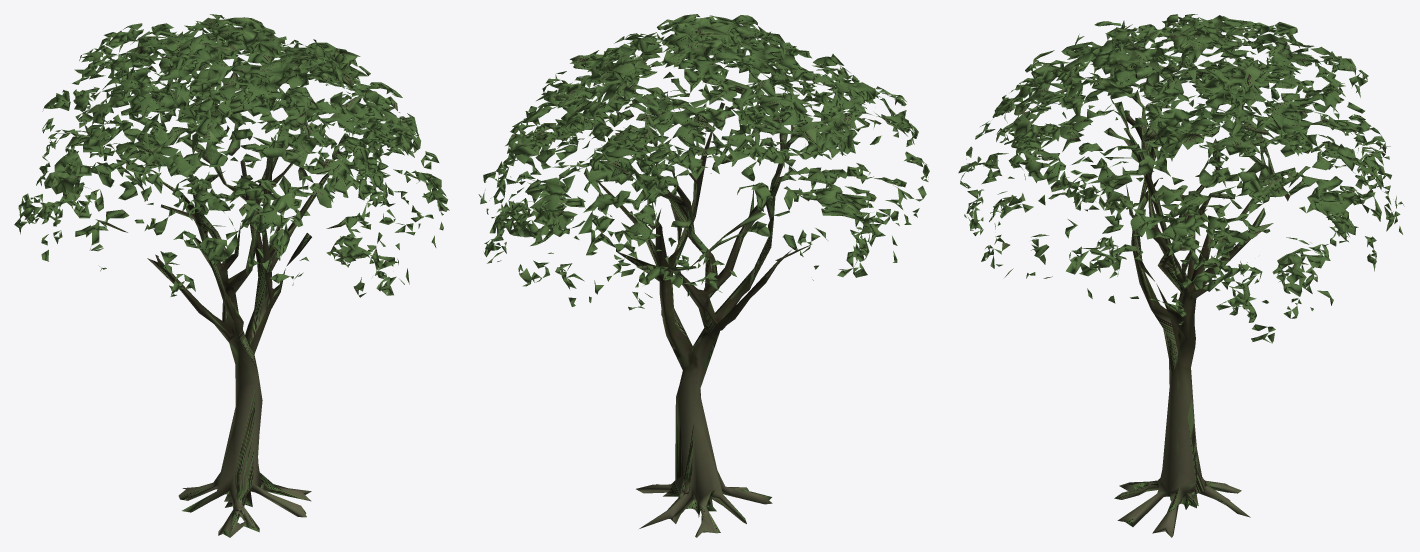
File: tree-banyan.glb
3 renders of one model, left to right at view 1: azimuth 30°, elevation 25°; view 2: azimuth 150°, elevation 25°; view 3: azimuth 270°, elevation 25°, orthographic.
Visible parts, largest first — view 1: world; view 2: world; view 3: world.
Boxes of the visible parts, left/top/right/bottom form: world: left=14, top=14, right=449, bottom=537; world: left=478, top=14, right=929, bottom=537; world: left=958, top=14, right=1404, bottom=537.
Bounding box in the file's own units: 0.8057 × 0.9617 × 0.8269.
1 material, 1 textured.
